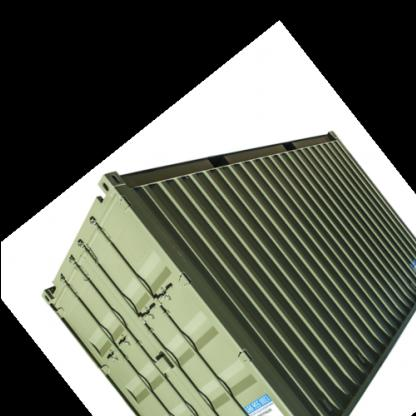Damage: (168, 240, 186, 270)
